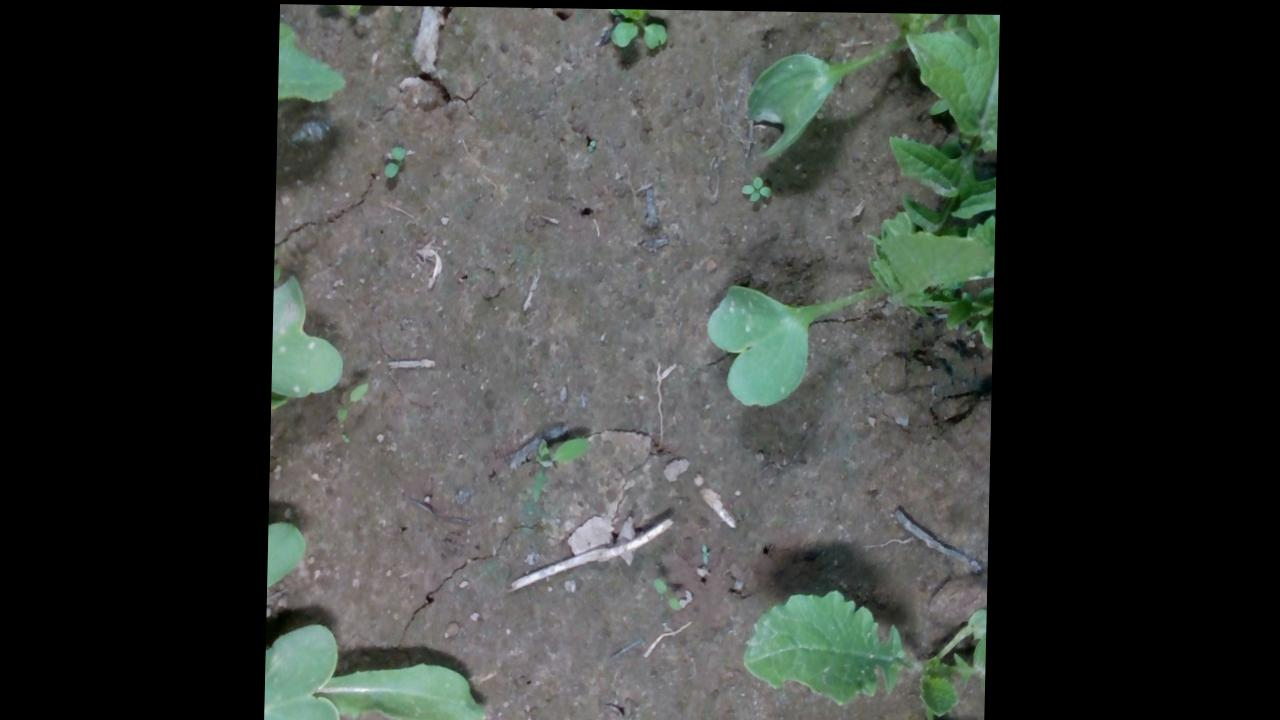weed: (532, 431, 596, 506), (336, 381, 371, 423), (652, 575, 684, 613), (309, 4, 384, 19), (738, 174, 774, 203), (383, 144, 409, 181)
